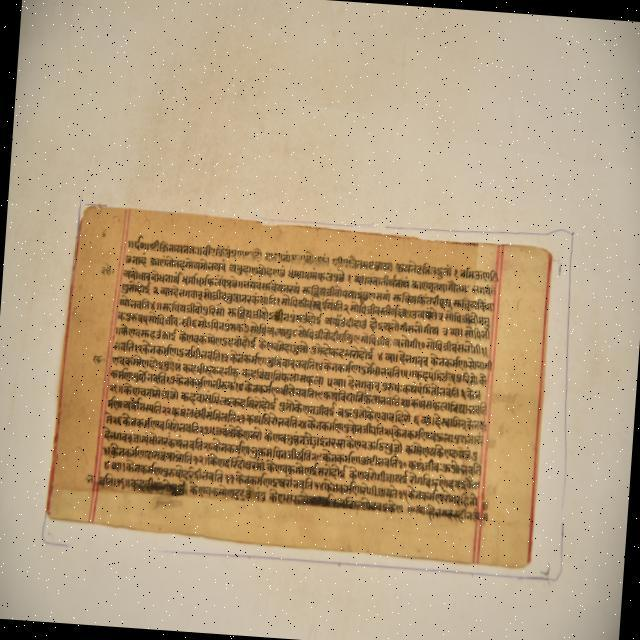text_paragraph: (42, 206, 553, 574)
